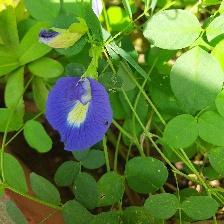shankupushpam: (45, 70, 117, 154)
